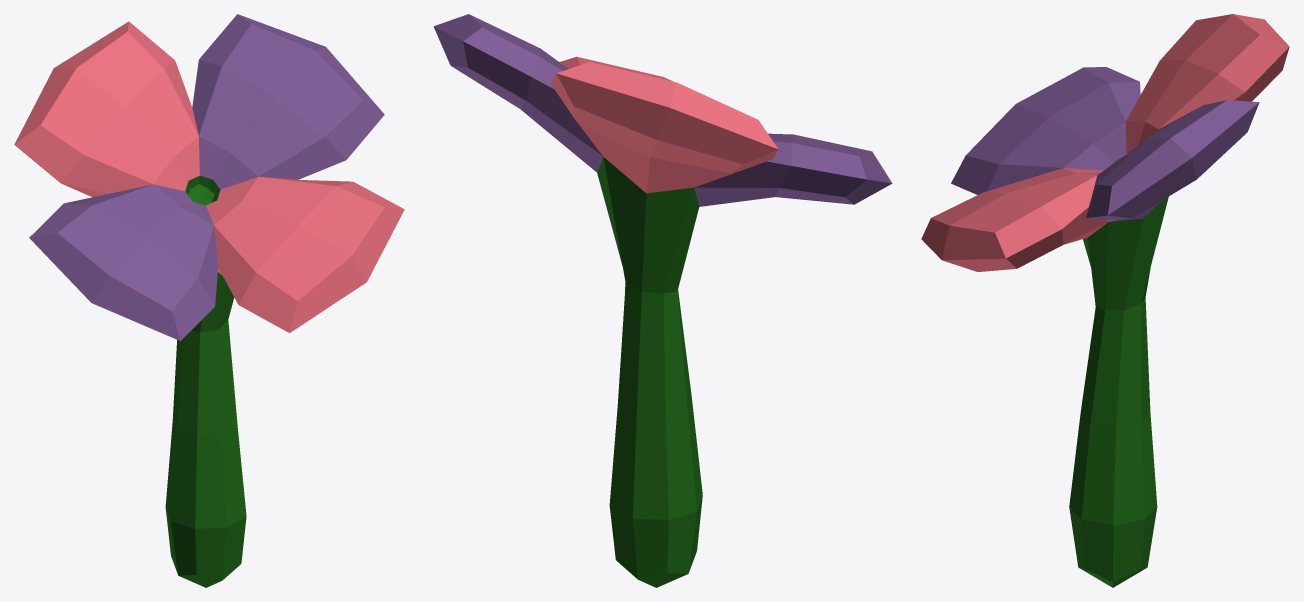
File: flowers1.fbx
3 views of the same model, side by side, from view 1: azimuth 30°, elevation 25°; view 2: azimuth 150°, elevation 25°; view 3: azimuth 270°, elevation 25° (orthographic). The views are drawn at different scales.
Visible parts, largest first — view 1: Cube; view 2: Cube; view 3: Cube.
Boxes of the visible parts, x1,y1,x2,y2 form: Cube: (14, 14, 404, 587); Cube: (433, 14, 892, 587); Cube: (921, 14, 1289, 587).
Size of the model in its own units: 96.03 by 131 by 79.91.
